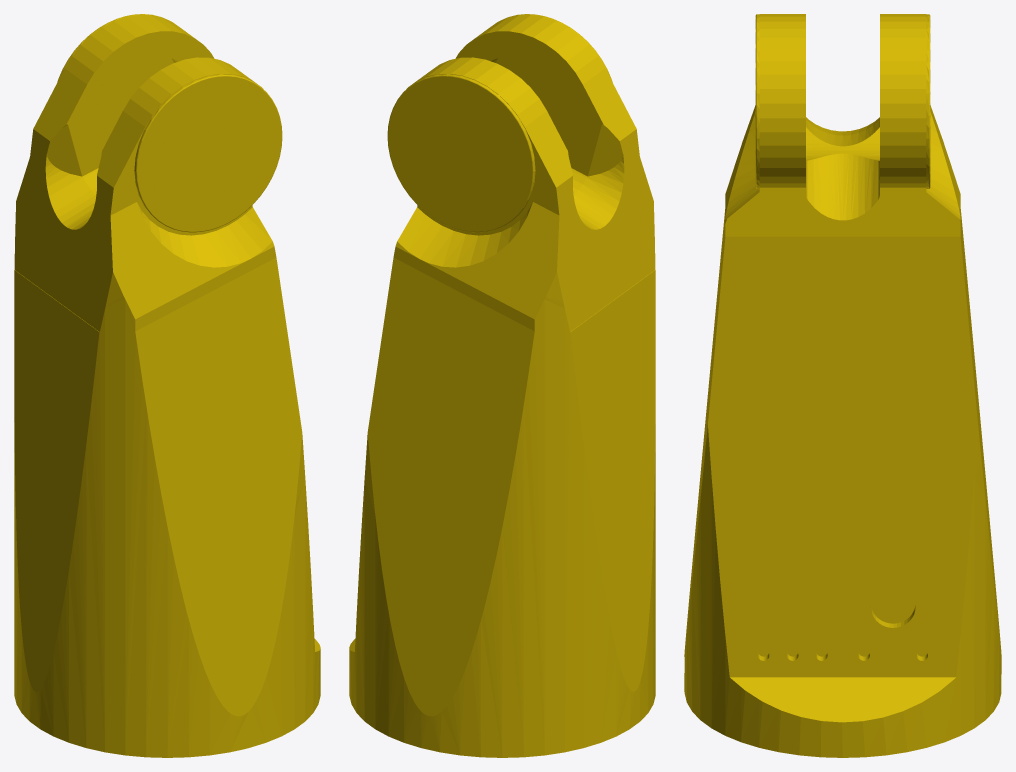
The picture shows the model from 3 angles, left to right: view 1: azimuth 30°, elevation 25°; view 2: azimuth 150°, elevation 25°; view 3: azimuth 270°, elevation 25°; orthographic projection. The views are drawn at different scales.
Visible parts, largest first — view 1: link_4; view 2: link_4; view 3: link_4.
Part boxes in pixels (<box>): link_4: <box>14,14,320,757</box>; link_4: <box>349,14,655,757</box>; link_4: <box>684,14,1001,757</box>.
Bounding box in the file's own units: 0.24 × 0.24 × 0.5587.
